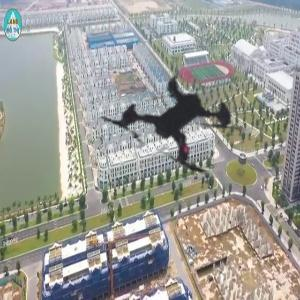drone: (69, 18, 284, 233)
